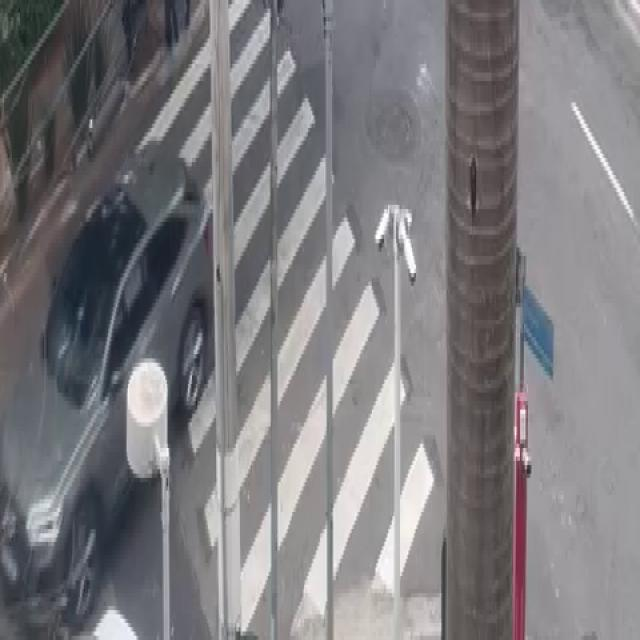car: (1, 147, 232, 596)
